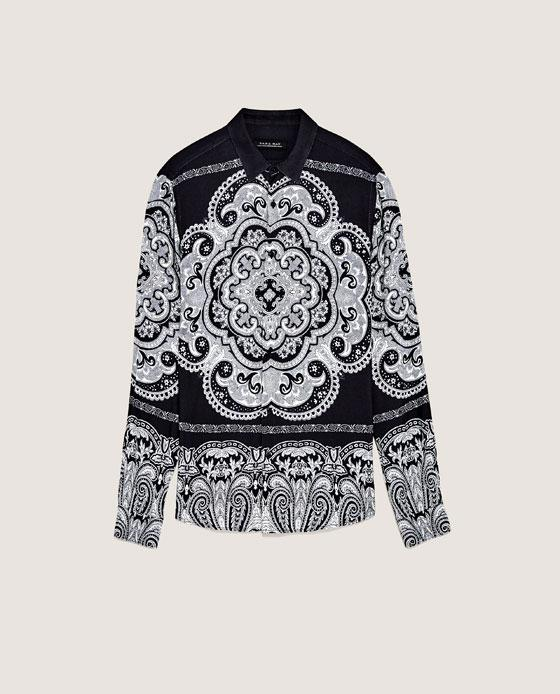teeshirt: (113, 107, 456, 558)
